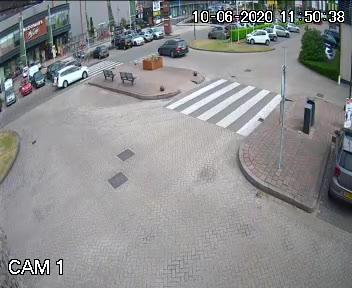car: (156, 36, 187, 62), (51, 66, 89, 85)
